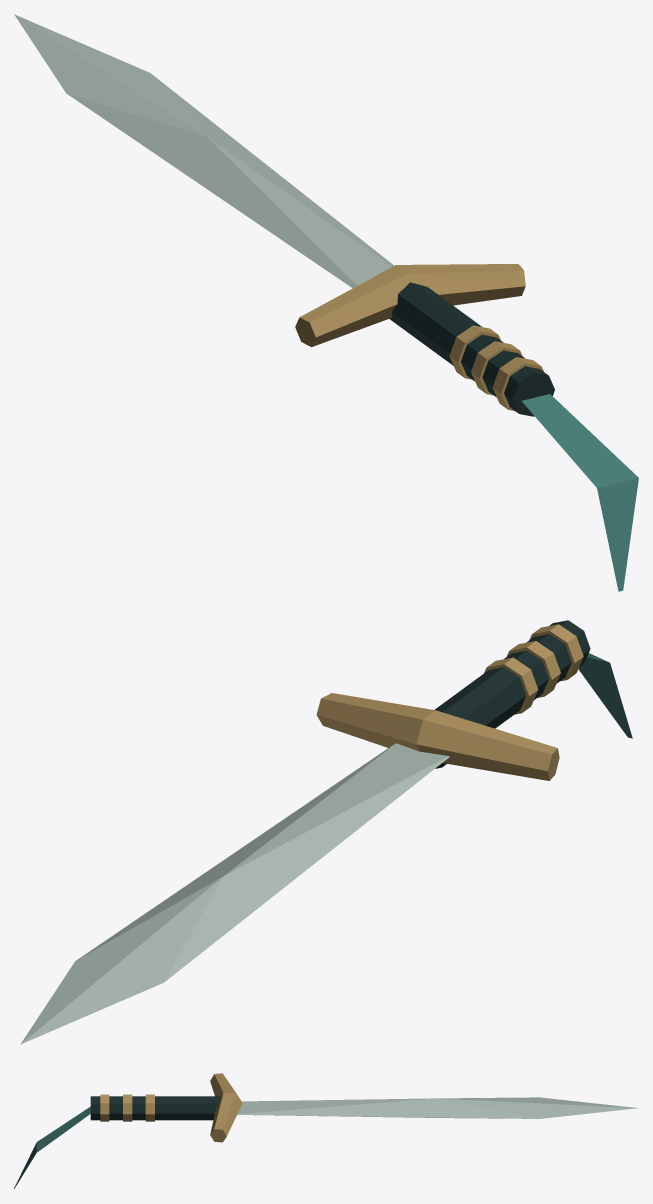
Rendered from long_sword.glb.
The picture shows the model from 3 angles, top to bottom: view 1: azimuth 30°, elevation 25°; view 2: azimuth 150°, elevation 25°; view 3: azimuth 270°, elevation 25°; orthographic projection. The views are drawn at different scales.
Visible parts, largest first — view 1: BladeMesh; view 2: BladeMesh; view 3: BladeMesh.
Part boxes in pixels (x1,y1,x2,y2): BladeMesh: (14,14,638,591); BladeMesh: (20,620,632,1044); BladeMesh: (14,1073,638,1188).
Bounding box in the file's own units: 0.4703 × 0.359 × 2.2.
